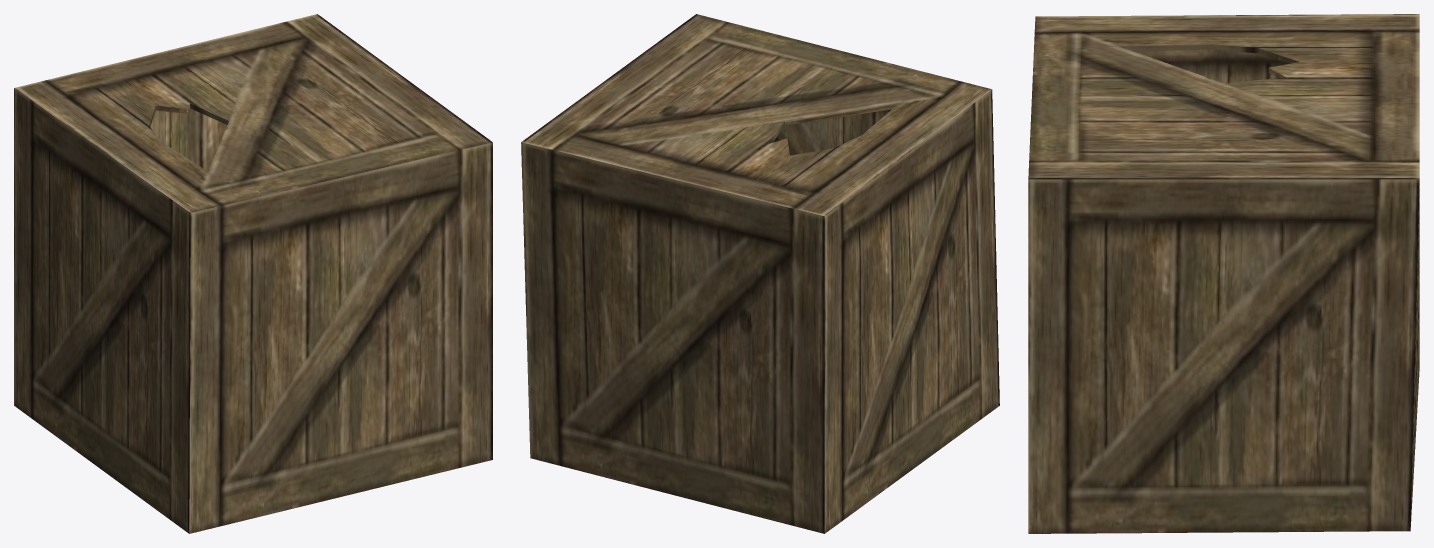
The model's file is pir_m_prp_cnt_crate_hiding.fbx.
The picture shows the model from 3 angles, left to right: view 1: azimuth 30°, elevation 25°; view 2: azimuth 150°, elevation 25°; view 3: azimuth 270°, elevation 25°; orthographic projection. The views are drawn at different scales.
Visible parts, largest first — view 1: lod_high; view 2: lod_high; view 3: lod_high.
Part boxes in pixels (x1=…): lod_high: x1=14, y1=14, x2=492, y2=533; lod_high: x1=521, y1=14, x2=999, y2=533; lod_high: x1=1028, y1=14, x2=1419, y2=533.
Bounding box in the file's own units: 459 × 463 × 459.
1 material, 1 textured.
